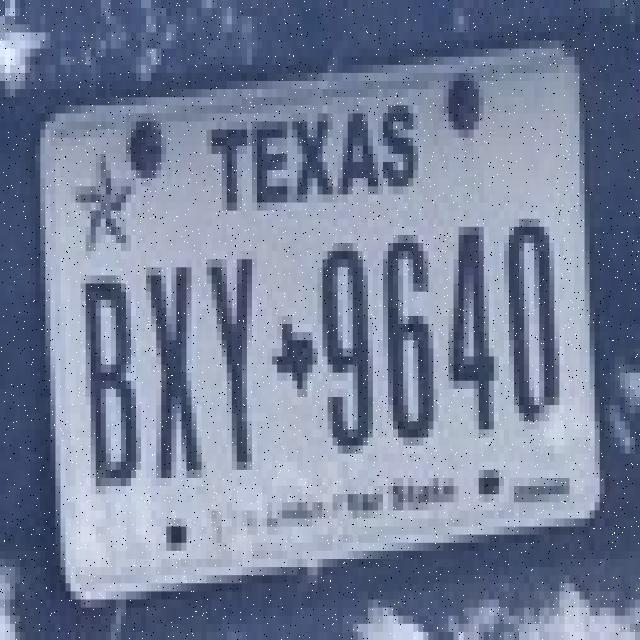License Plate: (32, 42, 632, 624)
